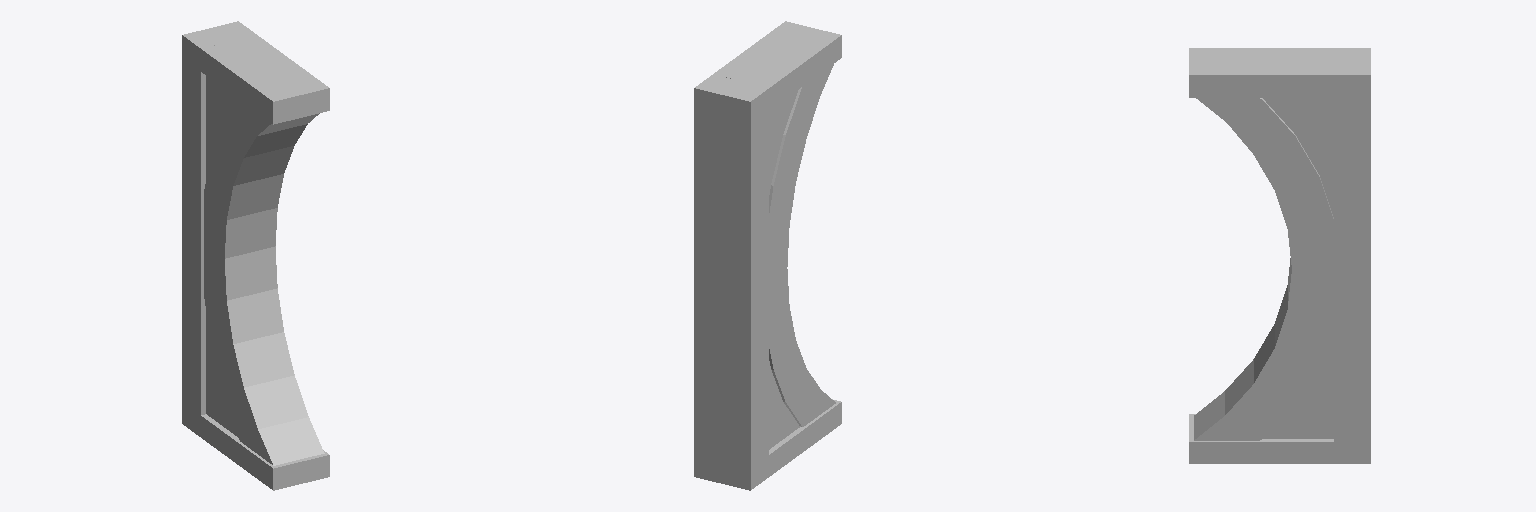
The model's file is gateRoomSideDoorPannel.obj.
3 renders of one model, left to right at view 1: azimuth 30°, elevation 25°; view 2: azimuth 150°, elevation 25°; view 3: azimuth 270°, elevation 25°, orthographic.
Parts seen in each view (by area): view 1: Cube.002_Cube.004, Cube_Cube.002; view 2: Cube.002_Cube.004, Cube_Cube.002; view 3: Cube.002_Cube.004, Cube_Cube.002.
Boxes of the visible parts, <box> form: Cube.002_Cube.004: <box>182,21,329,490</box>; Cube_Cube.002: <box>206,76,238,437</box>; Cube.002_Cube.004: <box>694,21,841,490</box>; Cube_Cube.002: <box>769,90,800,449</box>; Cube.002_Cube.004: <box>1189,48,1370,463</box>; Cube_Cube.002: <box>1263,98,1333,438</box>.
Bounding box in the file's own units: 0.5817 × 3.83 × 1.63.